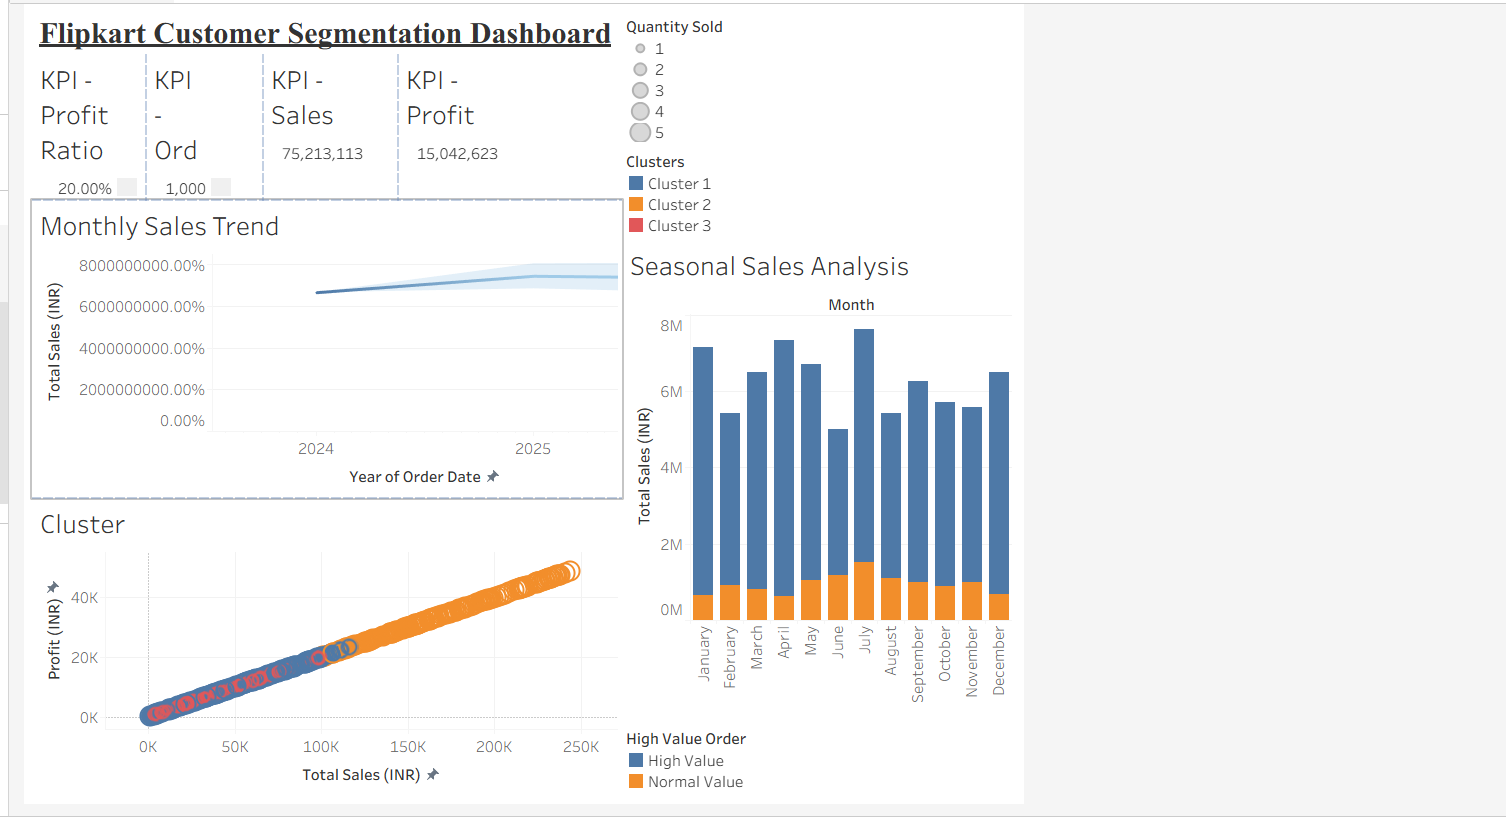

This screenshot's page, from the dashboard's own definition file:
{"tool":"tableau","page":{"name":"Customer Segmentation Dashboard","canvas":[1000,800],"ordinal":0},"visuals":[{"type":"title","box":[8,8,590,42]},{"type":"legend","title":"Cluster","param":"[federated.1t838q3138a7rr17odz171b4lht1].[sum:Quantity Sold:qk]","box":[598,8,394,135]},{"type":"worksheet","title":"KPI - Profit Ratio","mark":"Automatic","box":[8,50,113.9,145.7]},{"type":"worksheet","title":"KPI - Orders","mark":"Automatic","box":[121.9,50,116.9,145.7]},{"type":"worksheet","title":"KPI - Sales","mark":"Automatic","box":[238.8,50,134.9,145.7]},{"type":"worksheet","title":"KPI - Profit","mark":"Automatic","box":[373.7,50,224.3,145.7]},{"type":"legend","title":"Cluster","param":"[federated.1t838q3138a7rr17odz171b4lht1].[none:AdhocCluster:1:ok]","box":[598,143,394,93]},{"type":"worksheet","title":"Monthly Sales Trend","mark":"Automatic","rows":["Total Sales (INR)"],"cols":["Order Date"],"box":[8,195.7,590,298.1]},{"type":"worksheet","title":"Seasonal Sales Analysis","mark":"Automatic","rows":["Total Sales (INR)"],"cols":["Month"],"box":[598,236,394,484]},{"type":"worksheet","title":"Cluster","mark":"Automatic","rows":["Profit (INR)"],"cols":["Total Sales (INR)"],"box":[8,493.9,590,298.1]},{"type":"legend","title":"Seasonal Sales Analysis","param":"[federated.1t838q3138a7rr17odz171b4lht1].[none:Calculation_0860969421078531:nk]","box":[598,720,394,72]}]}

Visuals, with their boxes on the page's 1000x800 design canvas (x1, y1, x2, y2). These are canvas units, not pixel positions in the 1506x817 screenshot, which may show the page scaled, cropped or inside an application window:
title: l=8, t=8, r=598, b=50
"Cluster" legend: l=598, t=8, r=992, b=143
"KPI - Profit Ratio" worksheet: l=8, t=50, r=122, b=196
"KPI - Orders" worksheet: l=122, t=50, r=239, b=196
"KPI - Sales" worksheet: l=239, t=50, r=374, b=196
"KPI - Profit" worksheet: l=374, t=50, r=598, b=196
"Cluster" legend: l=598, t=143, r=992, b=236
"Monthly Sales Trend" worksheet: l=8, t=196, r=598, b=494
"Seasonal Sales Analysis" worksheet: l=598, t=236, r=992, b=720
"Cluster" worksheet: l=8, t=494, r=598, b=792
"Seasonal Sales Analysis" legend: l=598, t=720, r=992, b=792
